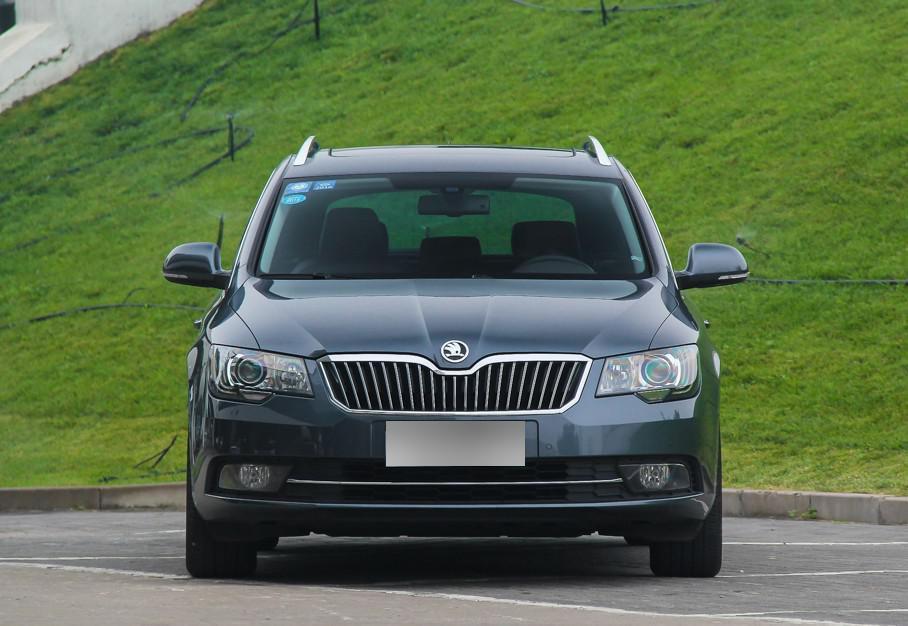Wagon: (160, 134, 751, 580)
